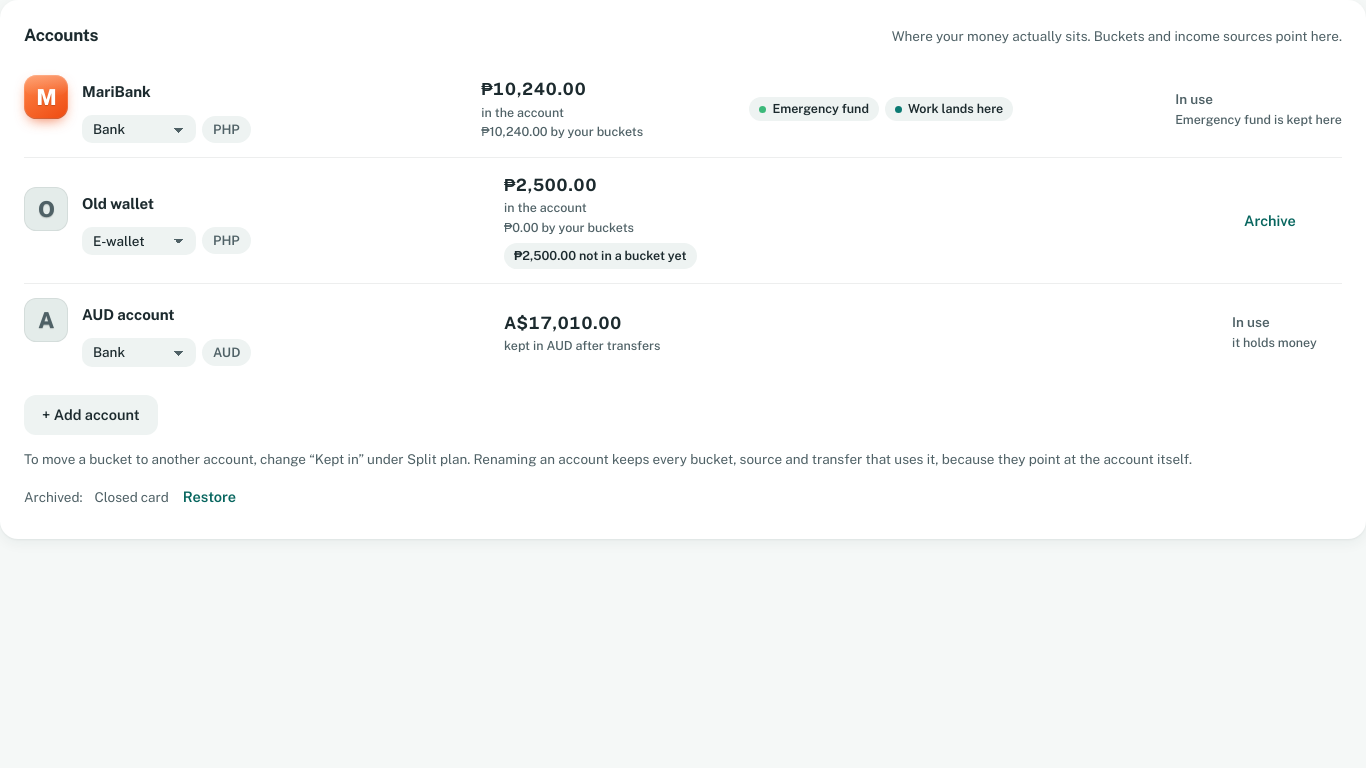
Test case: AccountsPanel › renames on blur, and restores the old name with a message when the save fails
Replace the text in the field named "Account name for Old wallet" with "Savings jar" at (285, 204), box [72,187,498,221]
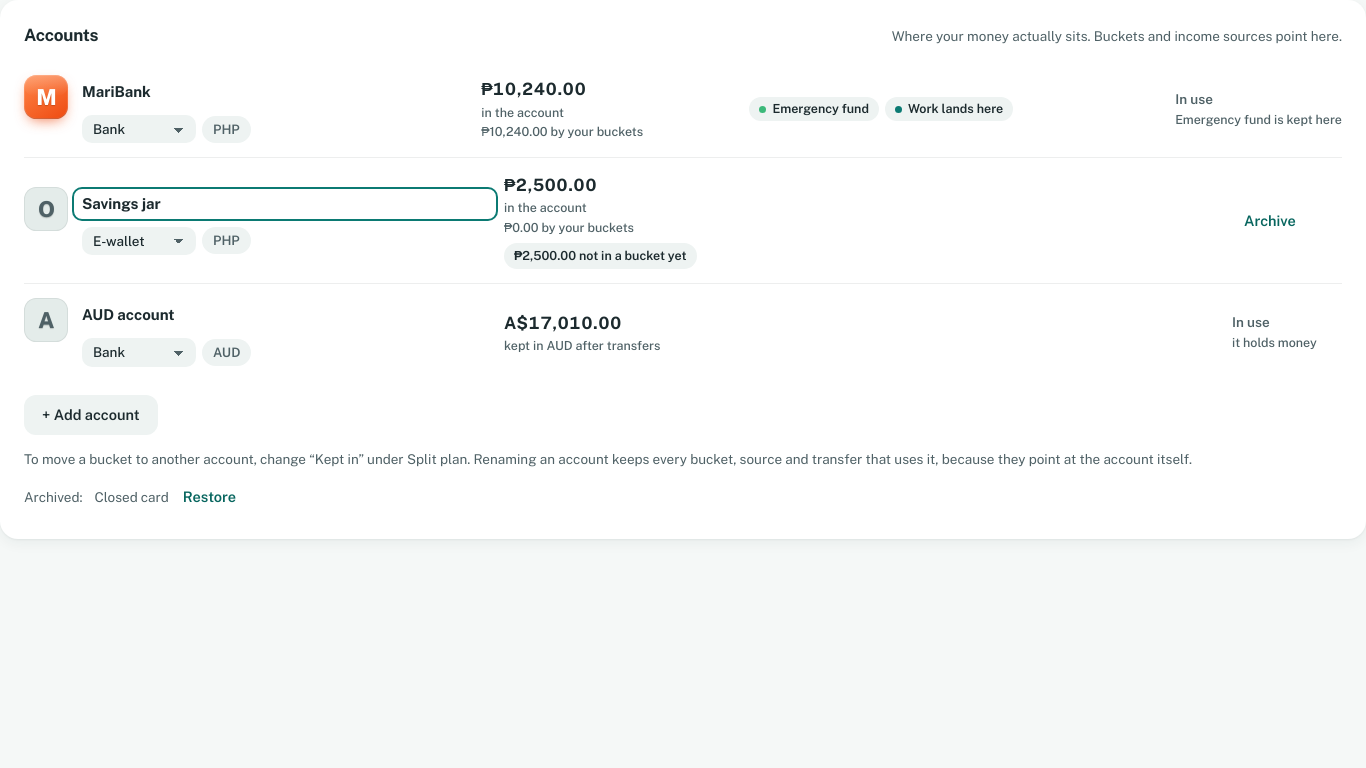
Press Tab
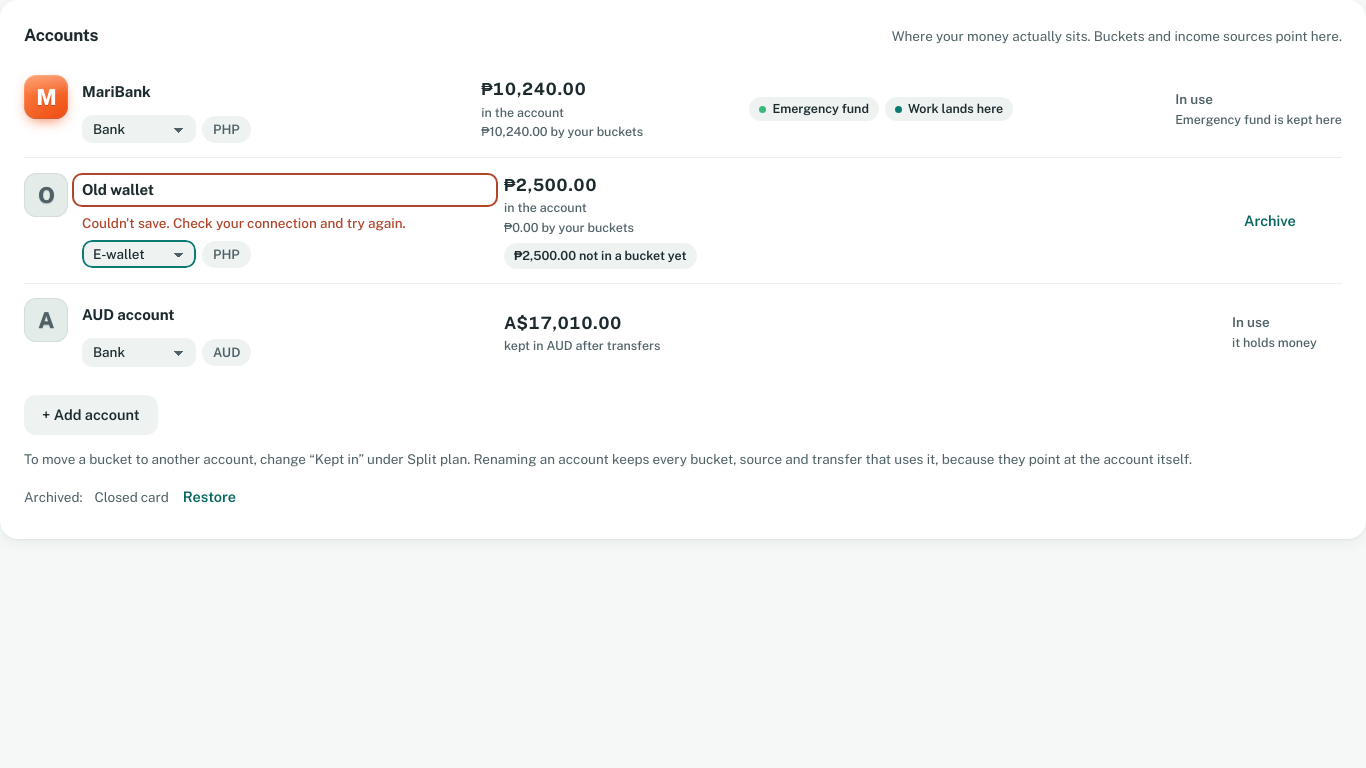
Expected: the text "Couldn't save. Check your connection and try again." is shown, [82,215,406,231]
Expected: the field named "Account name for Old wallet" holds "Old wallet", [72,173,498,207]
